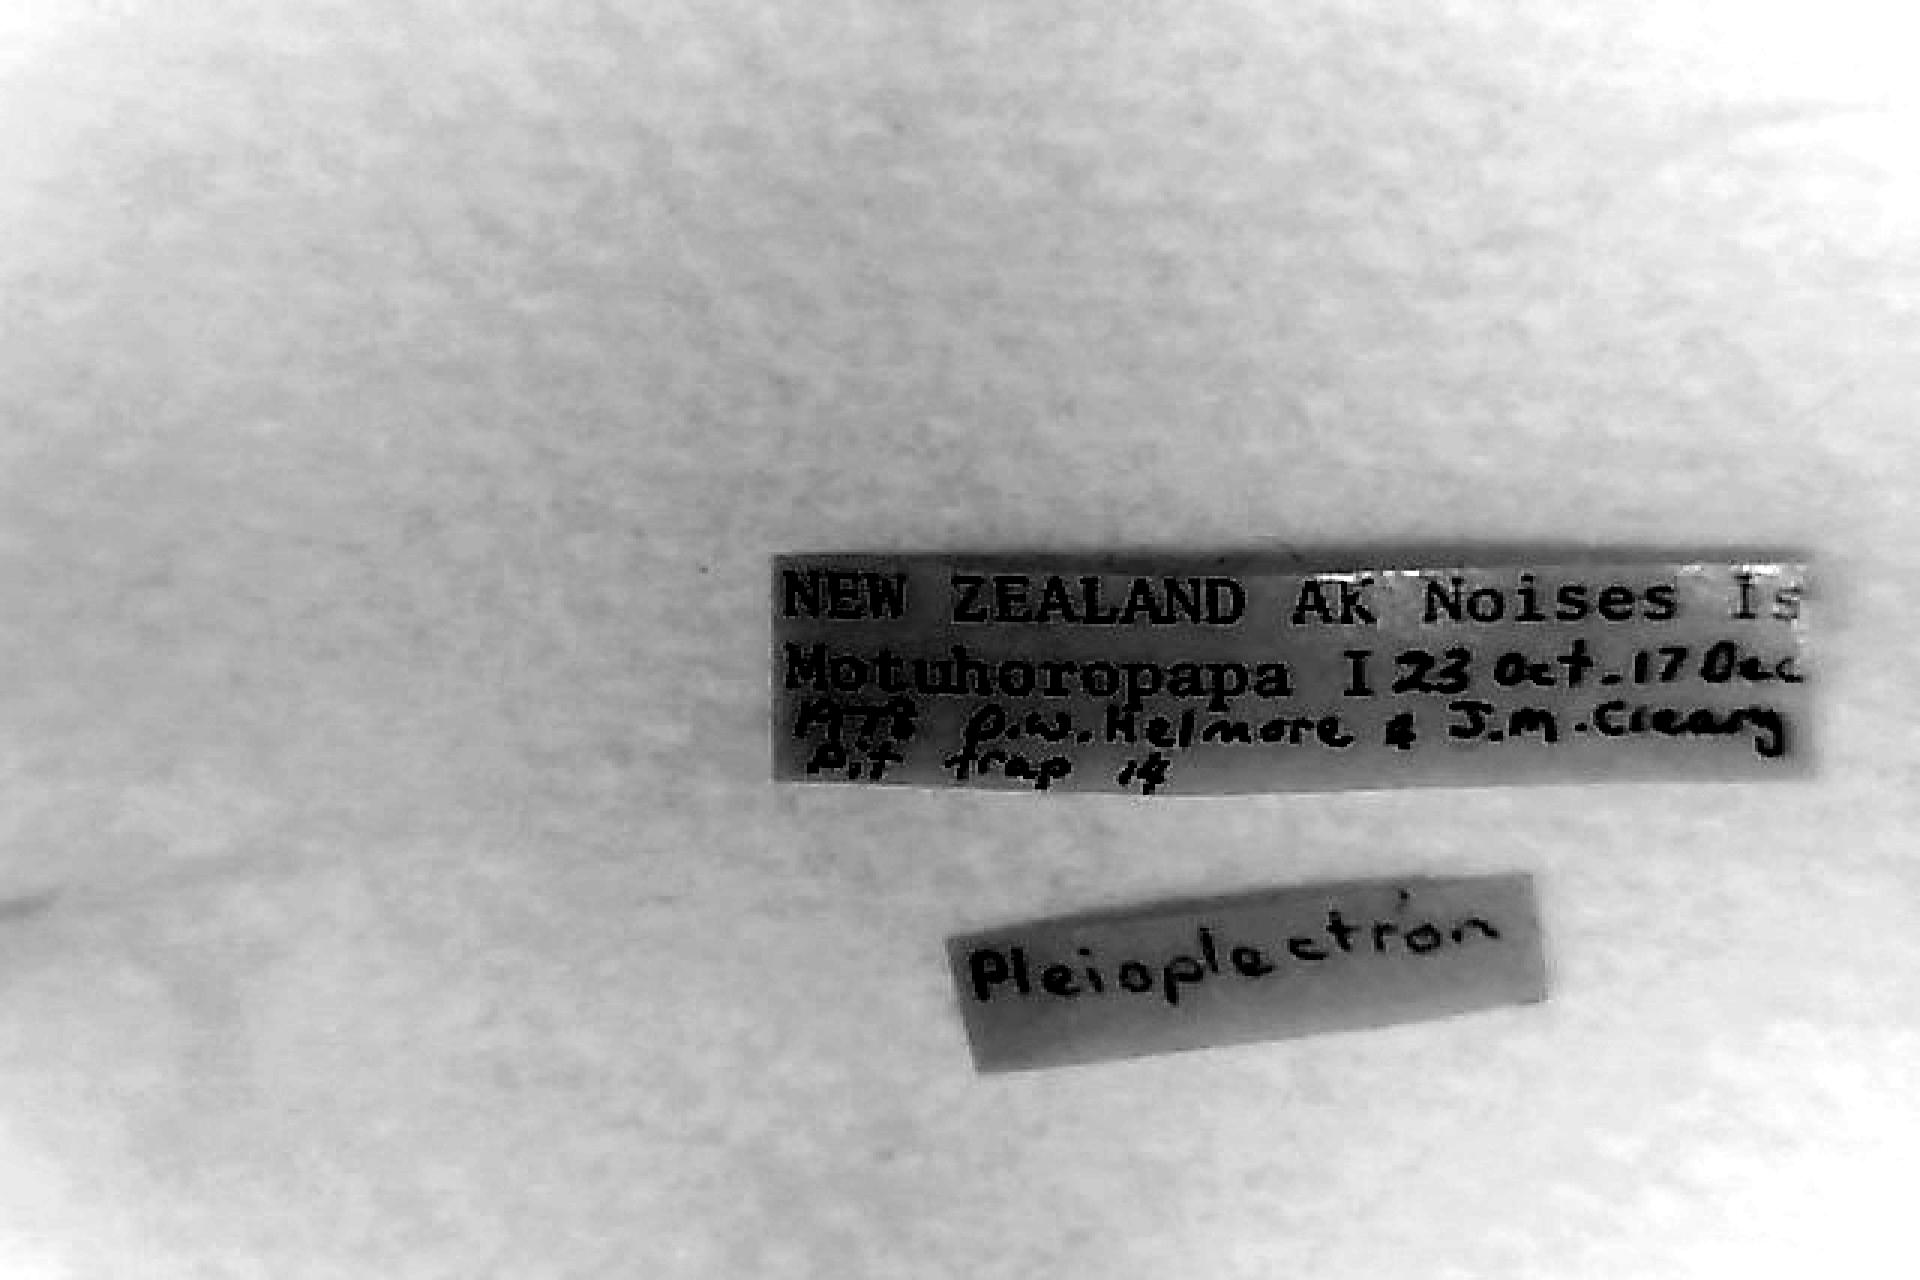hand_label: (949, 877, 1545, 1072)
mixed_label: (776, 558, 1811, 792)
